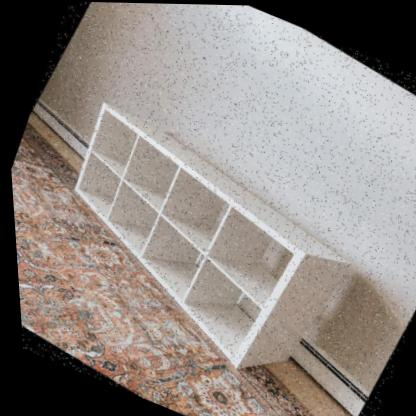Shelf: (4, 76, 406, 416)
